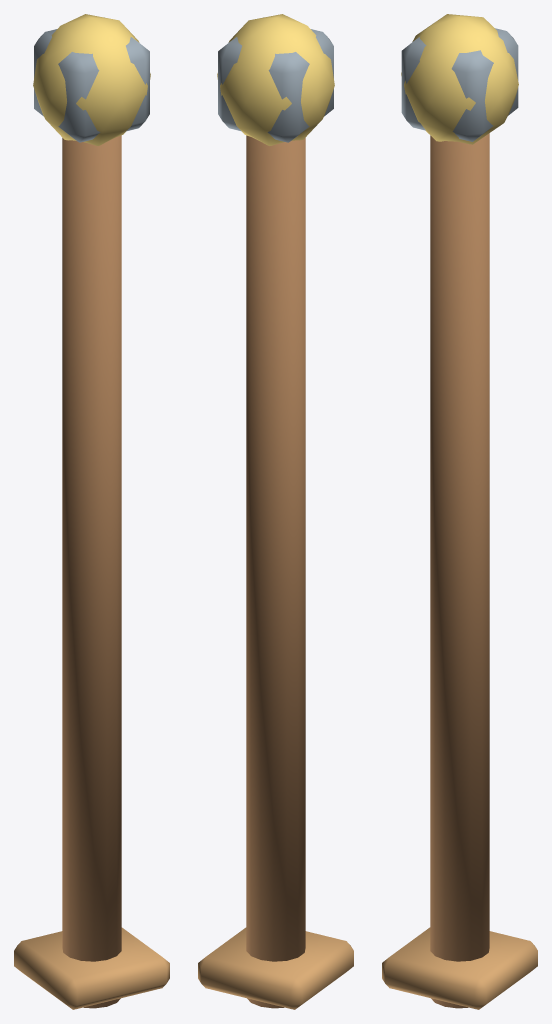
The model's file is gg-clay-lantern-post.glb.
The picture shows the model from 3 angles, left to right: view 1: azimuth 30°, elevation 25°; view 2: azimuth 150°, elevation 25°; view 3: azimuth 330°, elevation 25°; orthographic projection.
Visible parts, largest first — view 1: Lantern_Post, Lantern_Flame, Lantern_Base, Lantern_Cage; view 2: Lantern_Post, Lantern_Flame, Lantern_Base, Lantern_Cage; view 3: Lantern_Post, Lantern_Flame, Lantern_Base, Lantern_Cage.
Part boxes in pixels (x1,y1,x2,y2): Lantern_Post: (62, 135, 121, 1008); Lantern_Flame: (33, 14, 150, 145); Lantern_Base: (14, 927, 169, 1009); Lantern_Cage: (34, 17, 149, 142); Lantern_Post: (246, 135, 305, 1008); Lantern_Flame: (217, 14, 334, 145); Lantern_Base: (198, 927, 353, 1009); Lantern_Cage: (218, 17, 333, 142); Lantern_Post: (430, 133, 489, 1008); Lantern_Flame: (401, 14, 518, 144); Lantern_Base: (382, 927, 537, 1009); Lantern_Cage: (401, 28, 518, 141).
Bounding box in the file's own units: 0.28 × 2.51 × 0.28.
